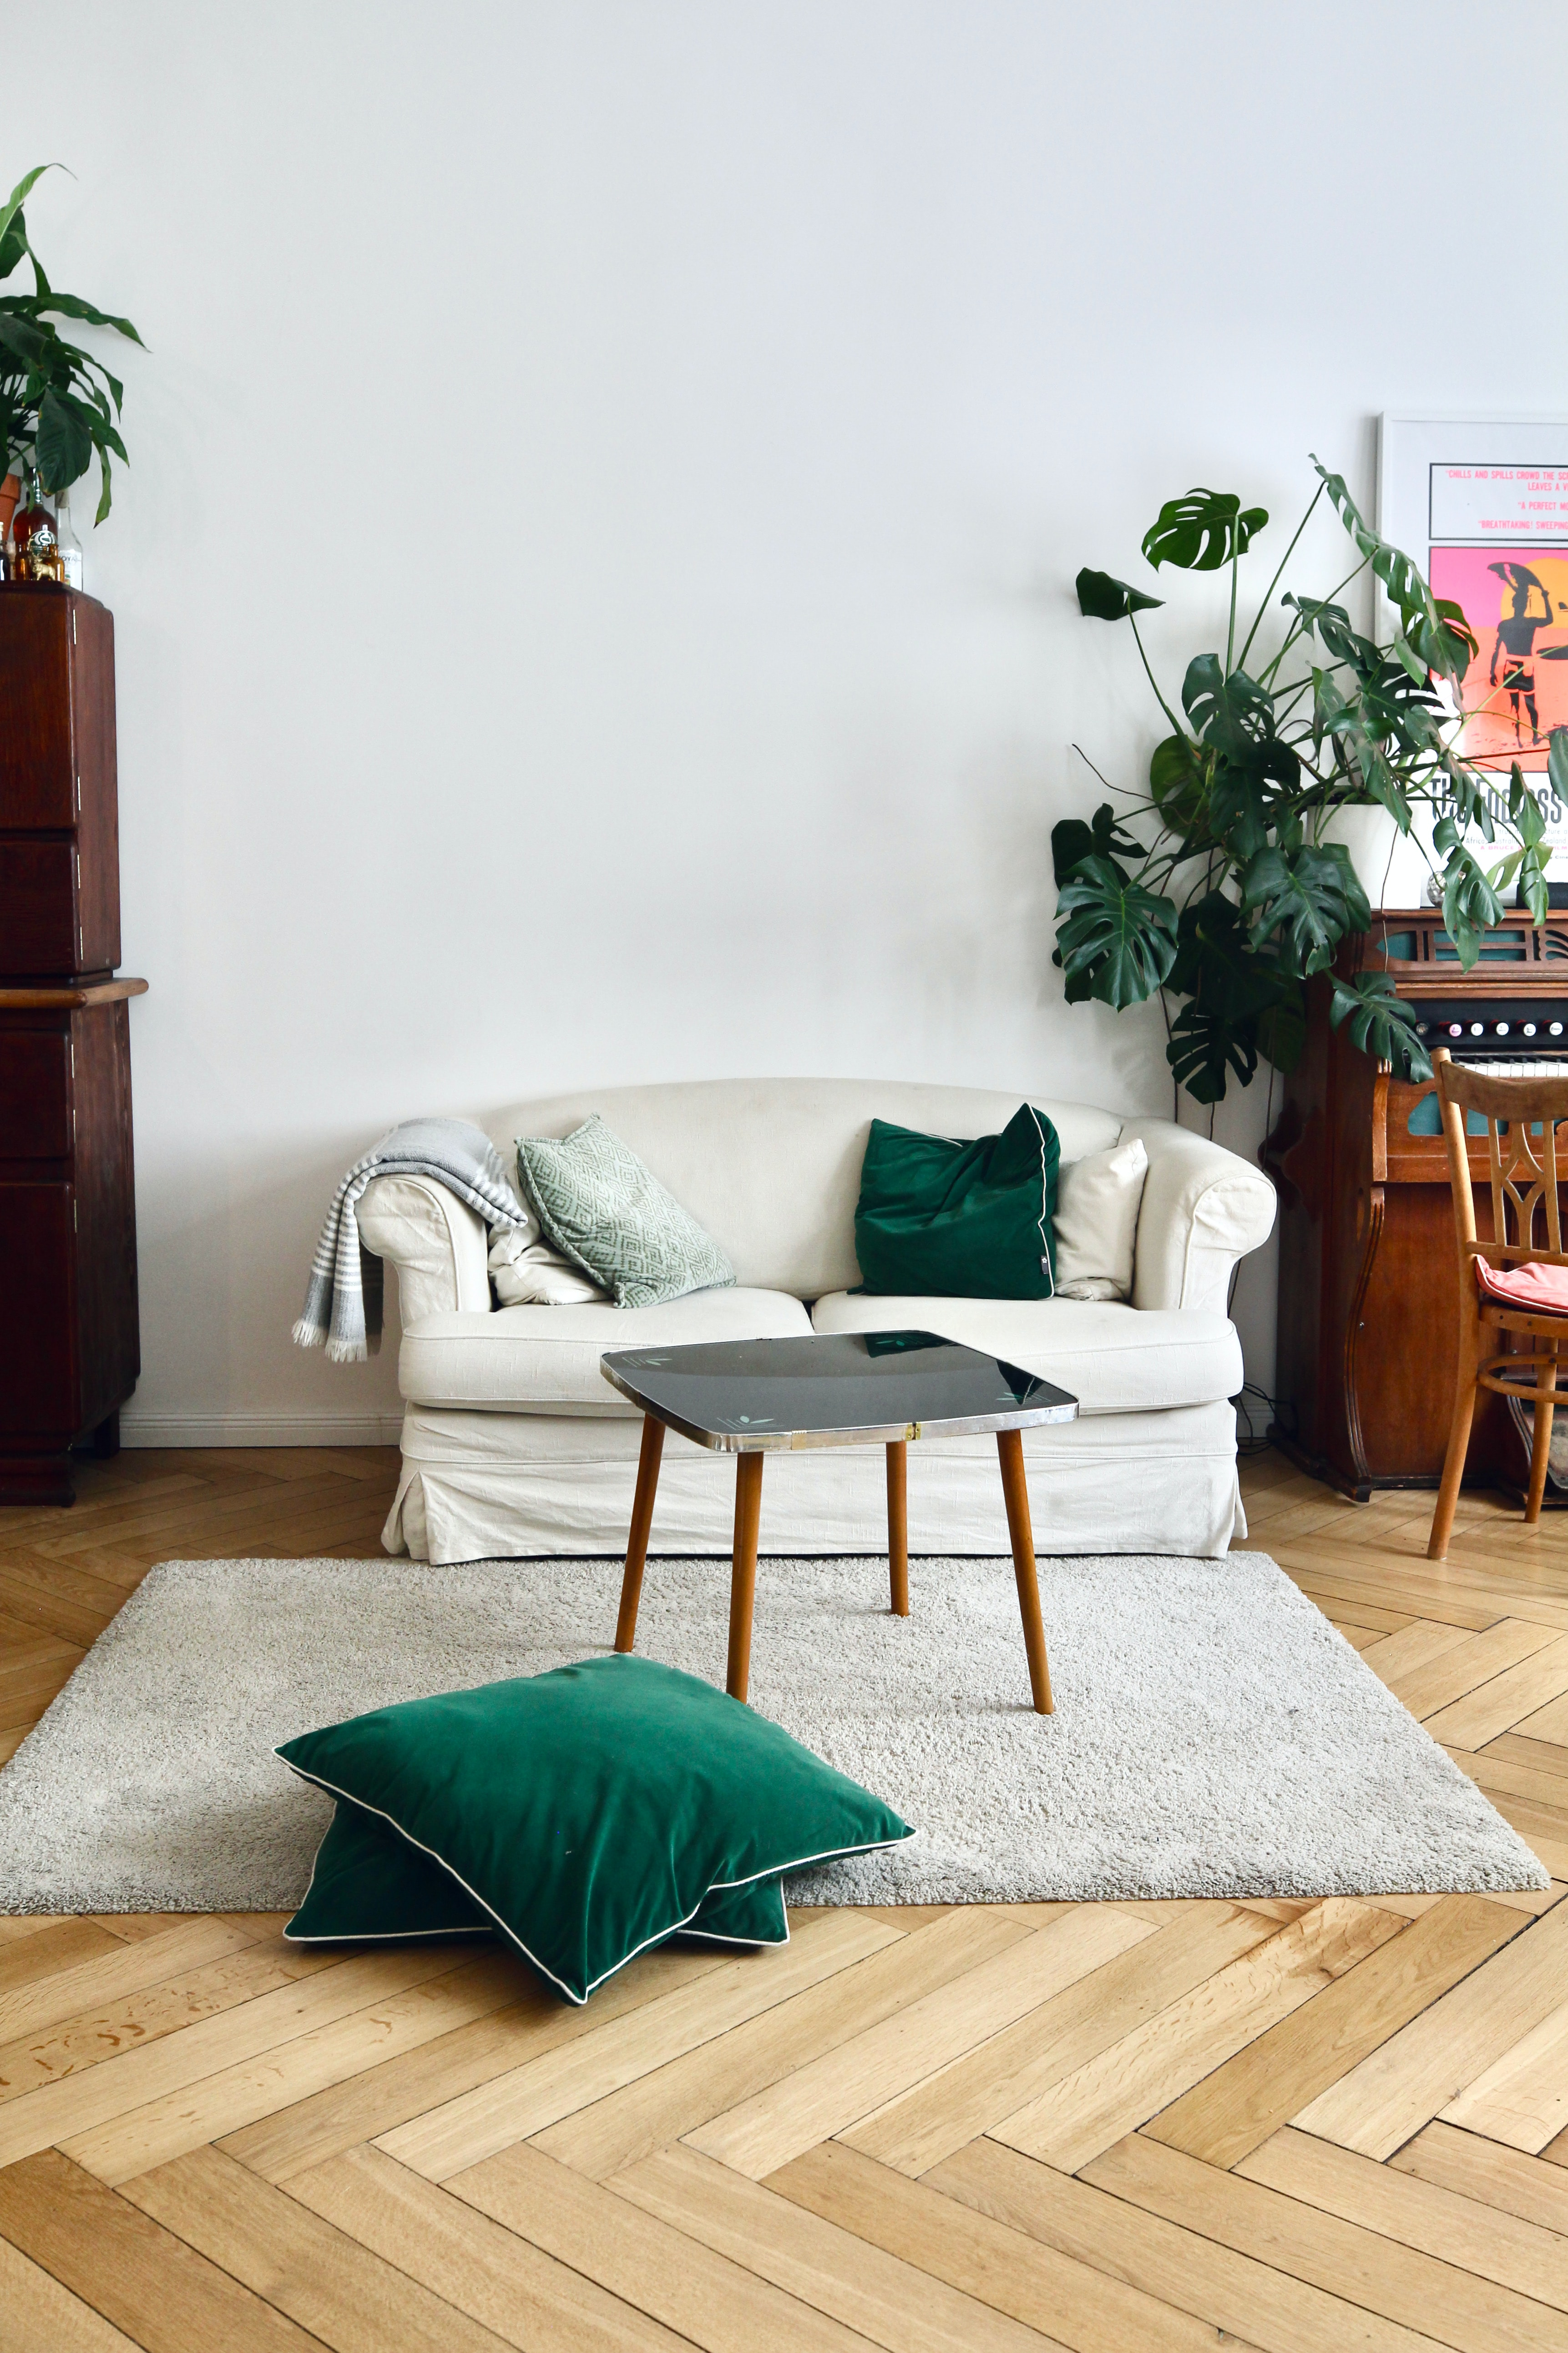Sofa: (241, 1027, 1307, 1597)
Table: (1031, 450, 1559, 1151), (537, 1296, 1155, 1732)
